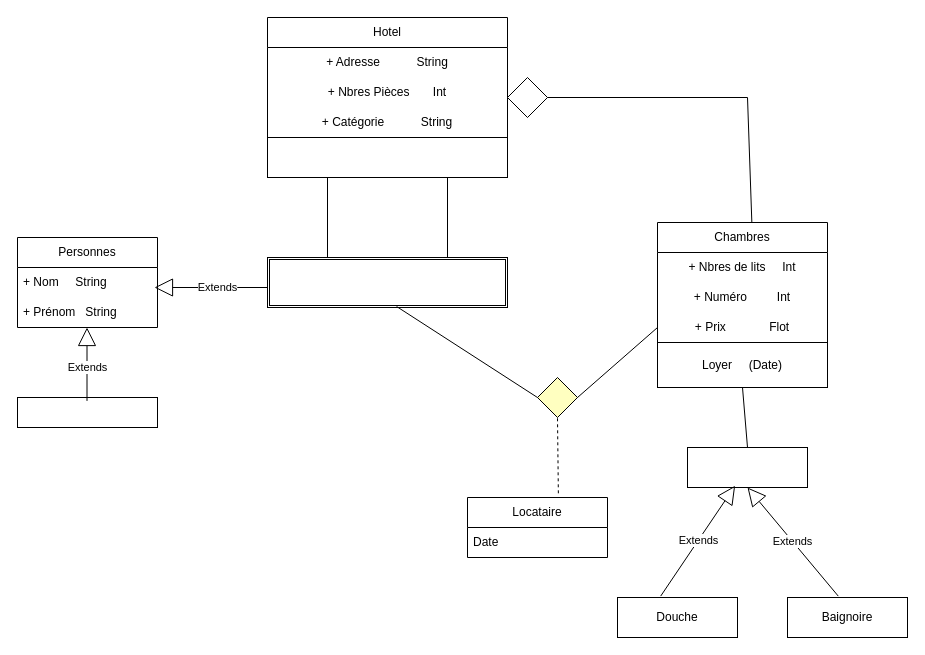
The diagram is 925 pixels wide and 655 high, and some of its shapes have lost their labels. Each missing label, with the centre of its shape:
Adultes: point (387, 282)
Chiffres d'affaires (date, date): point (387, 157)
Enfants: point (87, 412)
Salle de bain: point (747, 467)
